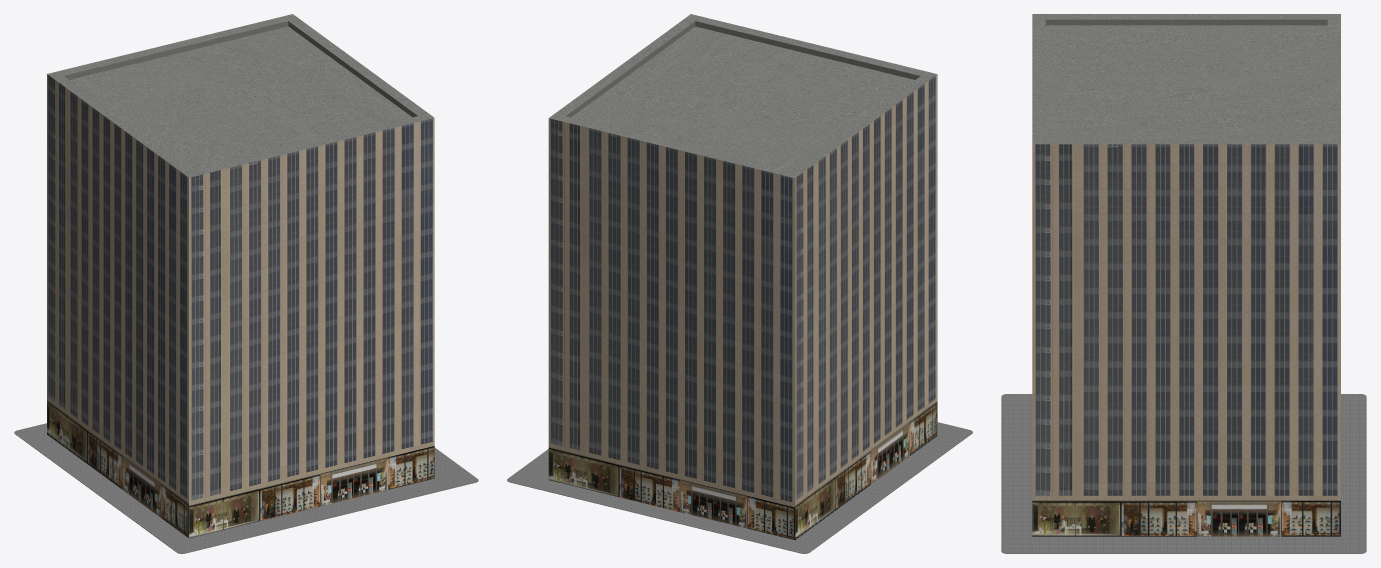
Rendered from Building 1.FBX.
3 renders of one model, left to right at view 1: azimuth 30°, elevation 25°; view 2: azimuth 150°, elevation 25°; view 3: azimuth 270°, elevation 25°, orthographic. The views are drawn at different scales.
Visible parts, largest first — view 1: Building 1; view 2: Building 1; view 3: Building 1.
Boxes of the visible parts, x1,y1,x2,y2 form: Building 1: [14, 14, 478, 553]; Building 1: [507, 14, 972, 553]; Building 1: [1001, 14, 1366, 553].
Size of the model in its own units: 2594 by 2974 by 2507.
Materials: 3 (3 with a texture image).
